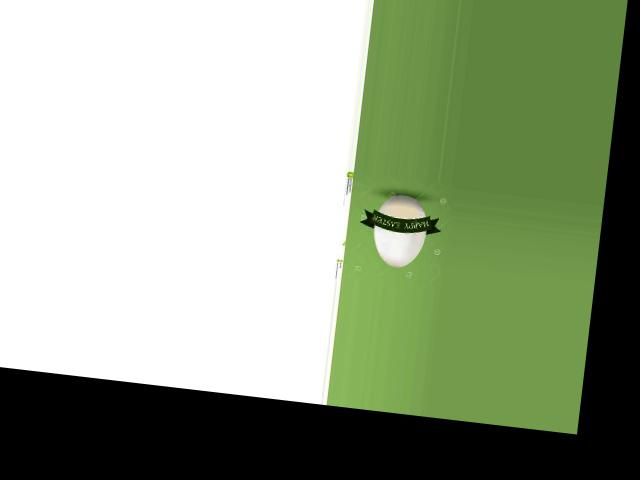egg: (369, 192, 429, 269)
